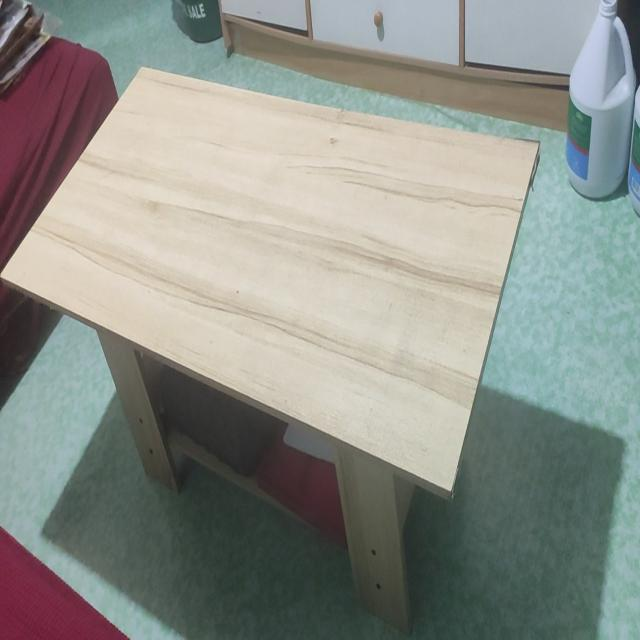table: (18, 63, 540, 611)
